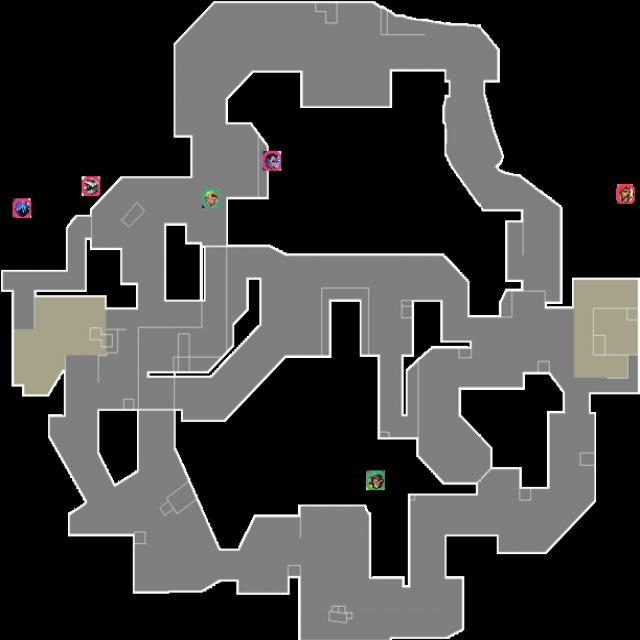atk_brimstone: (616, 184, 635, 204)
atk_cypher: (82, 176, 100, 196)
atk_omen: (13, 198, 32, 218)
atk_yoru: (262, 151, 282, 171)
def_gekko: (202, 188, 220, 208)
def_killjoy: (366, 470, 385, 490)
